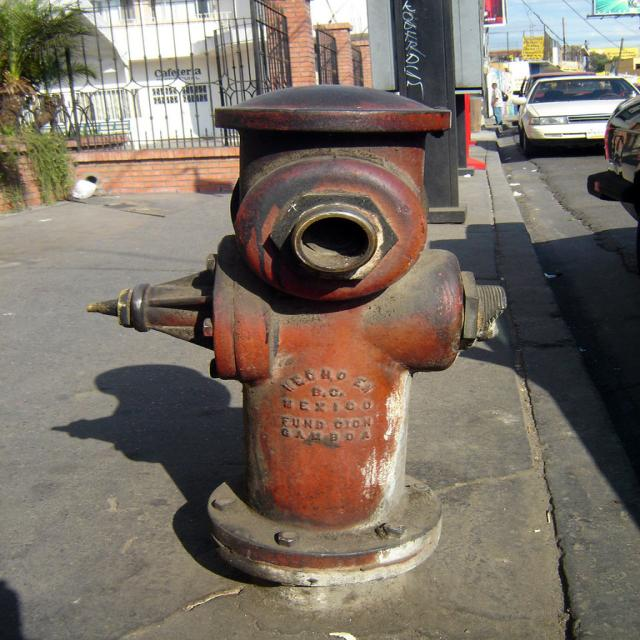fire_hydrant: (86, 83, 504, 590), (83, 84, 505, 586)
